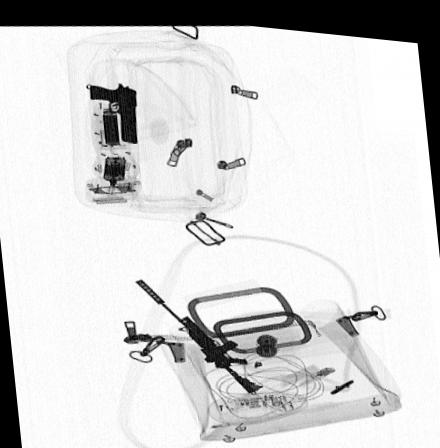Gun: (130, 273, 265, 389), (89, 80, 138, 143)
